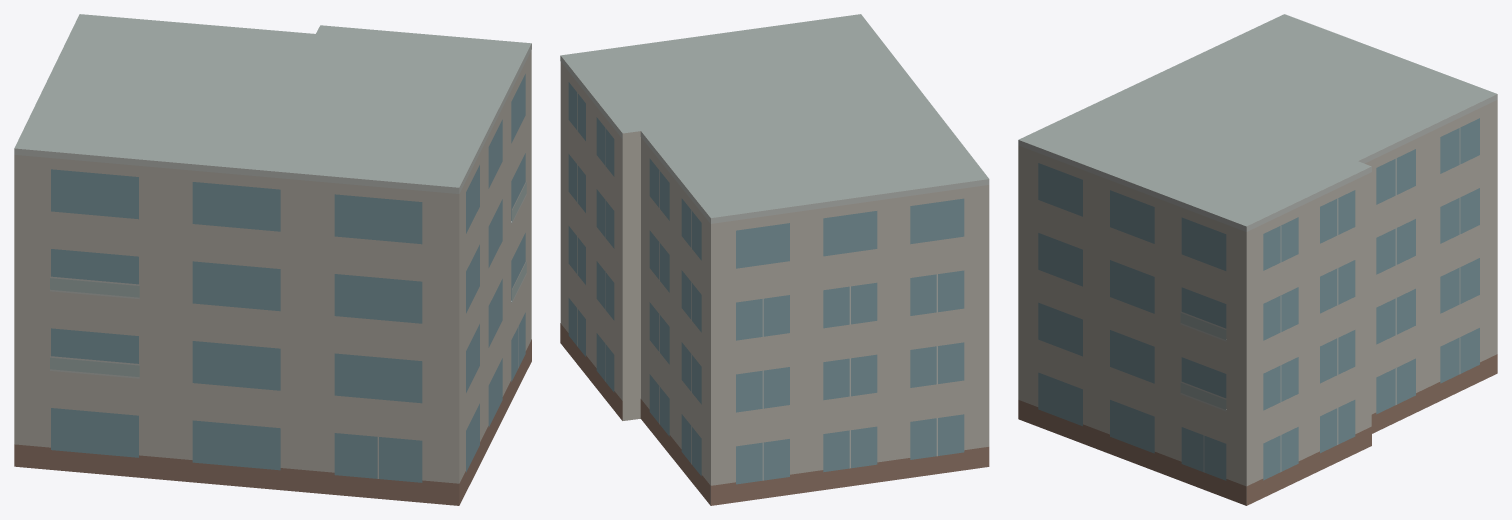
Rendered from survey-upis-32718466.glb.
3 views of the same model, side by side, from view 1: azimuth 30°, elevation 25°; view 2: azimuth 150°, elevation 25°; view 3: azimuth 270°, elevation 25° (orthographic). The views are drawn at different scales.
Visible parts, largest first — view 1: survey-upis-32718466.tmp; view 2: survey-upis-32718466.tmp; view 3: survey-upis-32718466.tmp.
Part boxes in pixels (x1=…): survey-upis-32718466.tmp: x1=14, y1=14, x2=531, y2=505; survey-upis-32718466.tmp: x1=560, y1=14, x2=989, y2=505; survey-upis-32718466.tmp: x1=1018, y1=14, x2=1497, y2=505.
Bounding box in the file's own units: 19.91 × 12.2 × 18.98.
